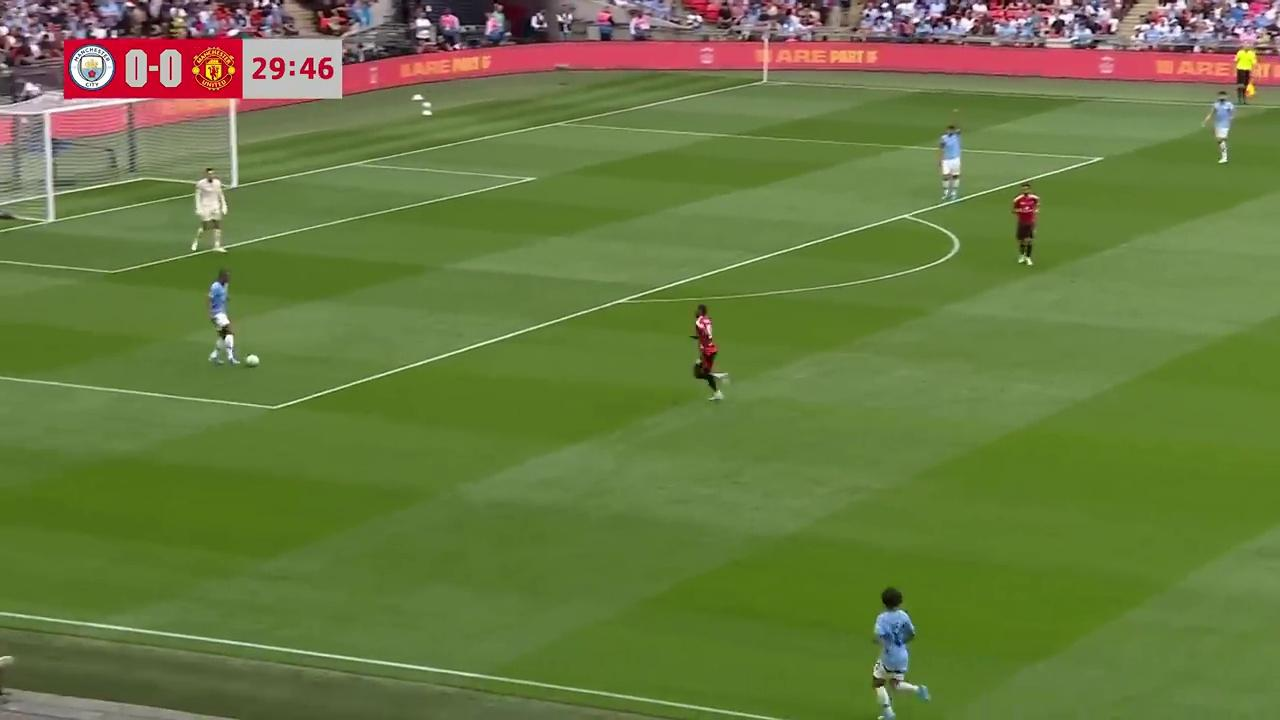ball: (243, 351, 261, 368)
player: (871, 588, 932, 719), (691, 303, 727, 402), (206, 268, 241, 366), (190, 166, 228, 253), (1202, 91, 1237, 163), (1011, 183, 1039, 266), (935, 125, 962, 202), (410, 90, 434, 118)
referee: (1234, 53, 1259, 104)
